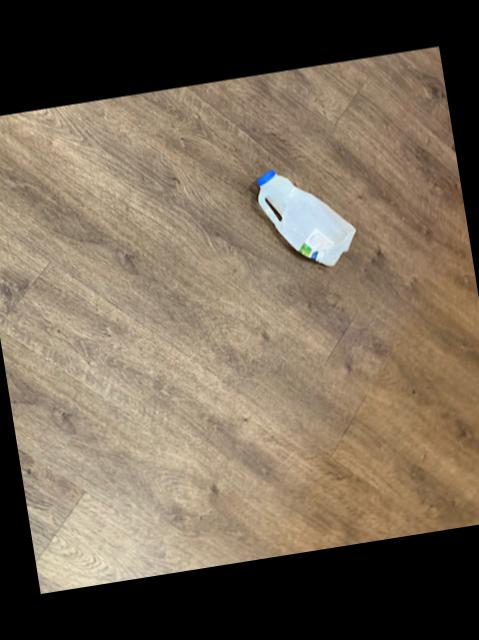plastic: (254, 169, 352, 264)
